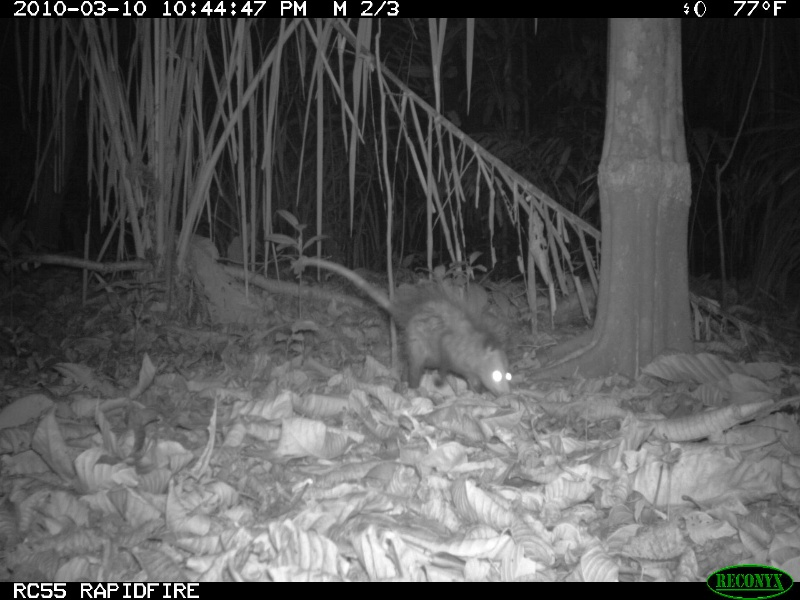opossum: (298, 251, 518, 401)
